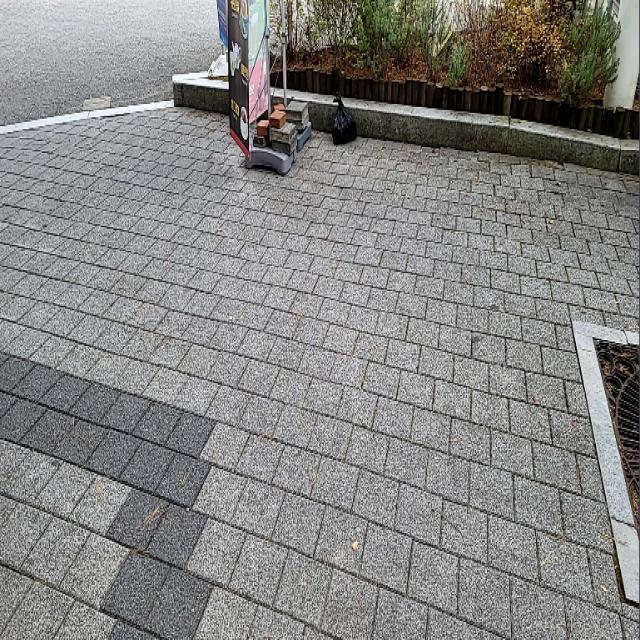Trashbag: (326, 97, 366, 150)
